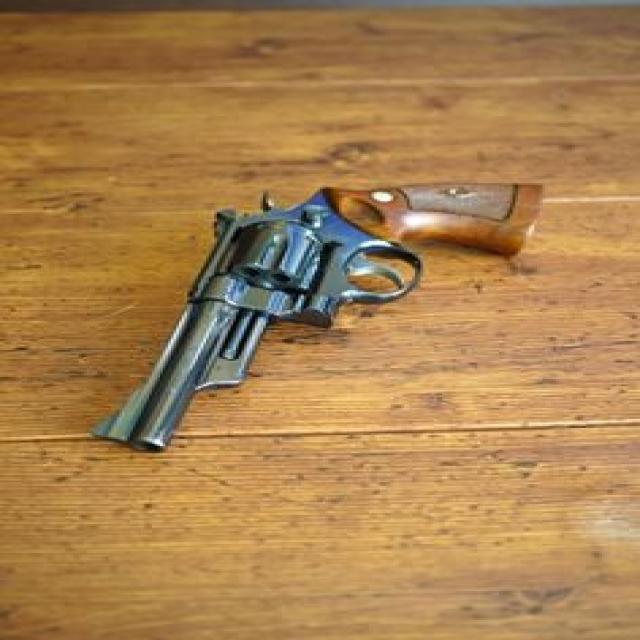revolver: (99, 109, 588, 528)
